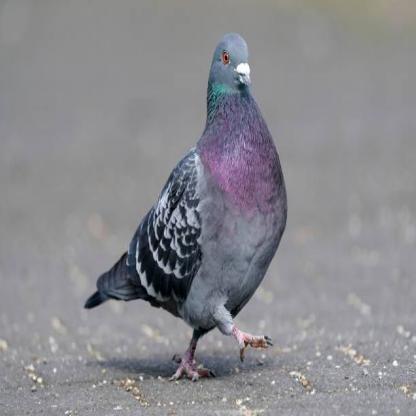Rock Pigeon: (90, 31, 291, 387)
